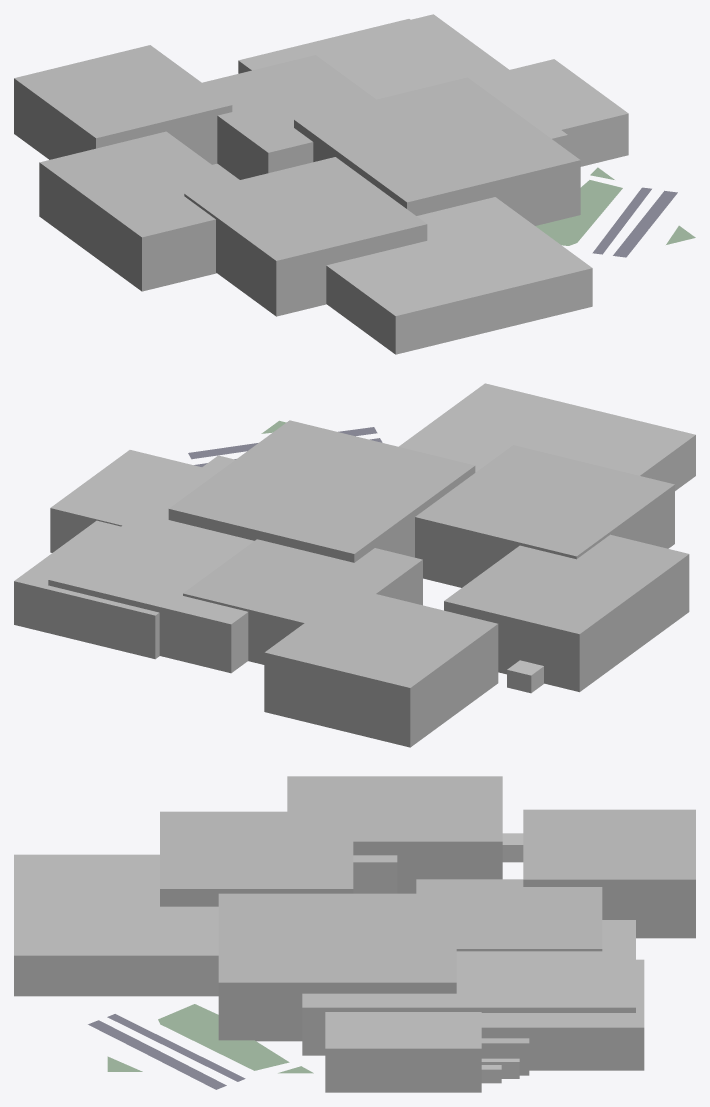
Rendered from 109_91_mid.glb.
3 views of the same model, one above another, from view 1: azimuth 30°, elevation 25°; view 2: azimuth 150°, elevation 25°; view 3: azimuth 270°, elevation 25° (orthographic). The views are drawn at different scales.
Bounding box in the file's own units: 570 × 62.08 × 634.
